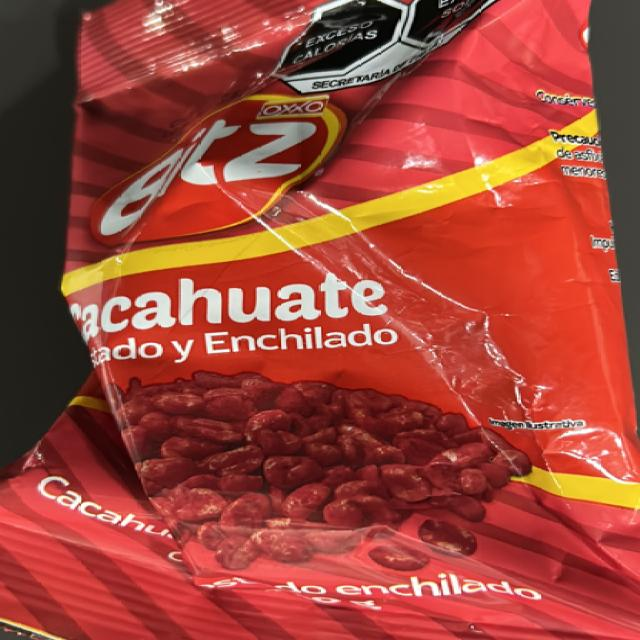bitzEnchilado90: (82, 15, 592, 633)
